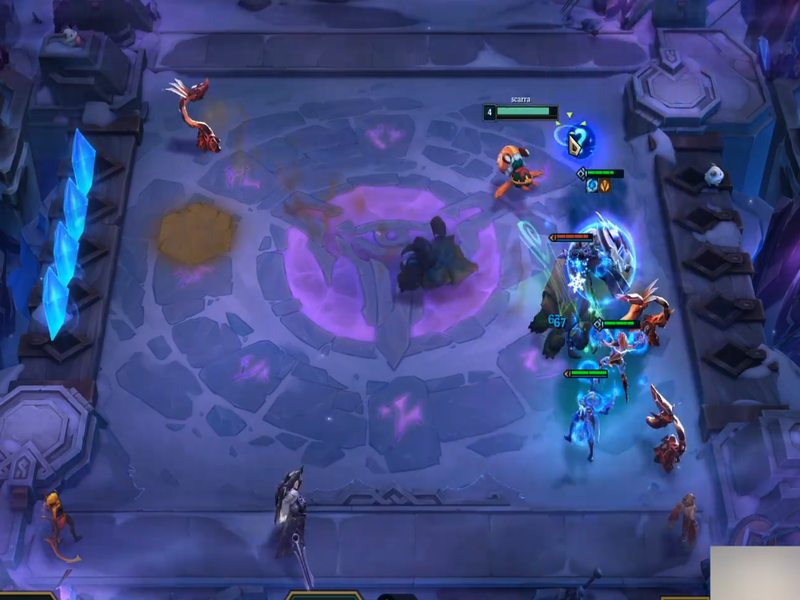blue orb: (567, 122, 595, 157)
